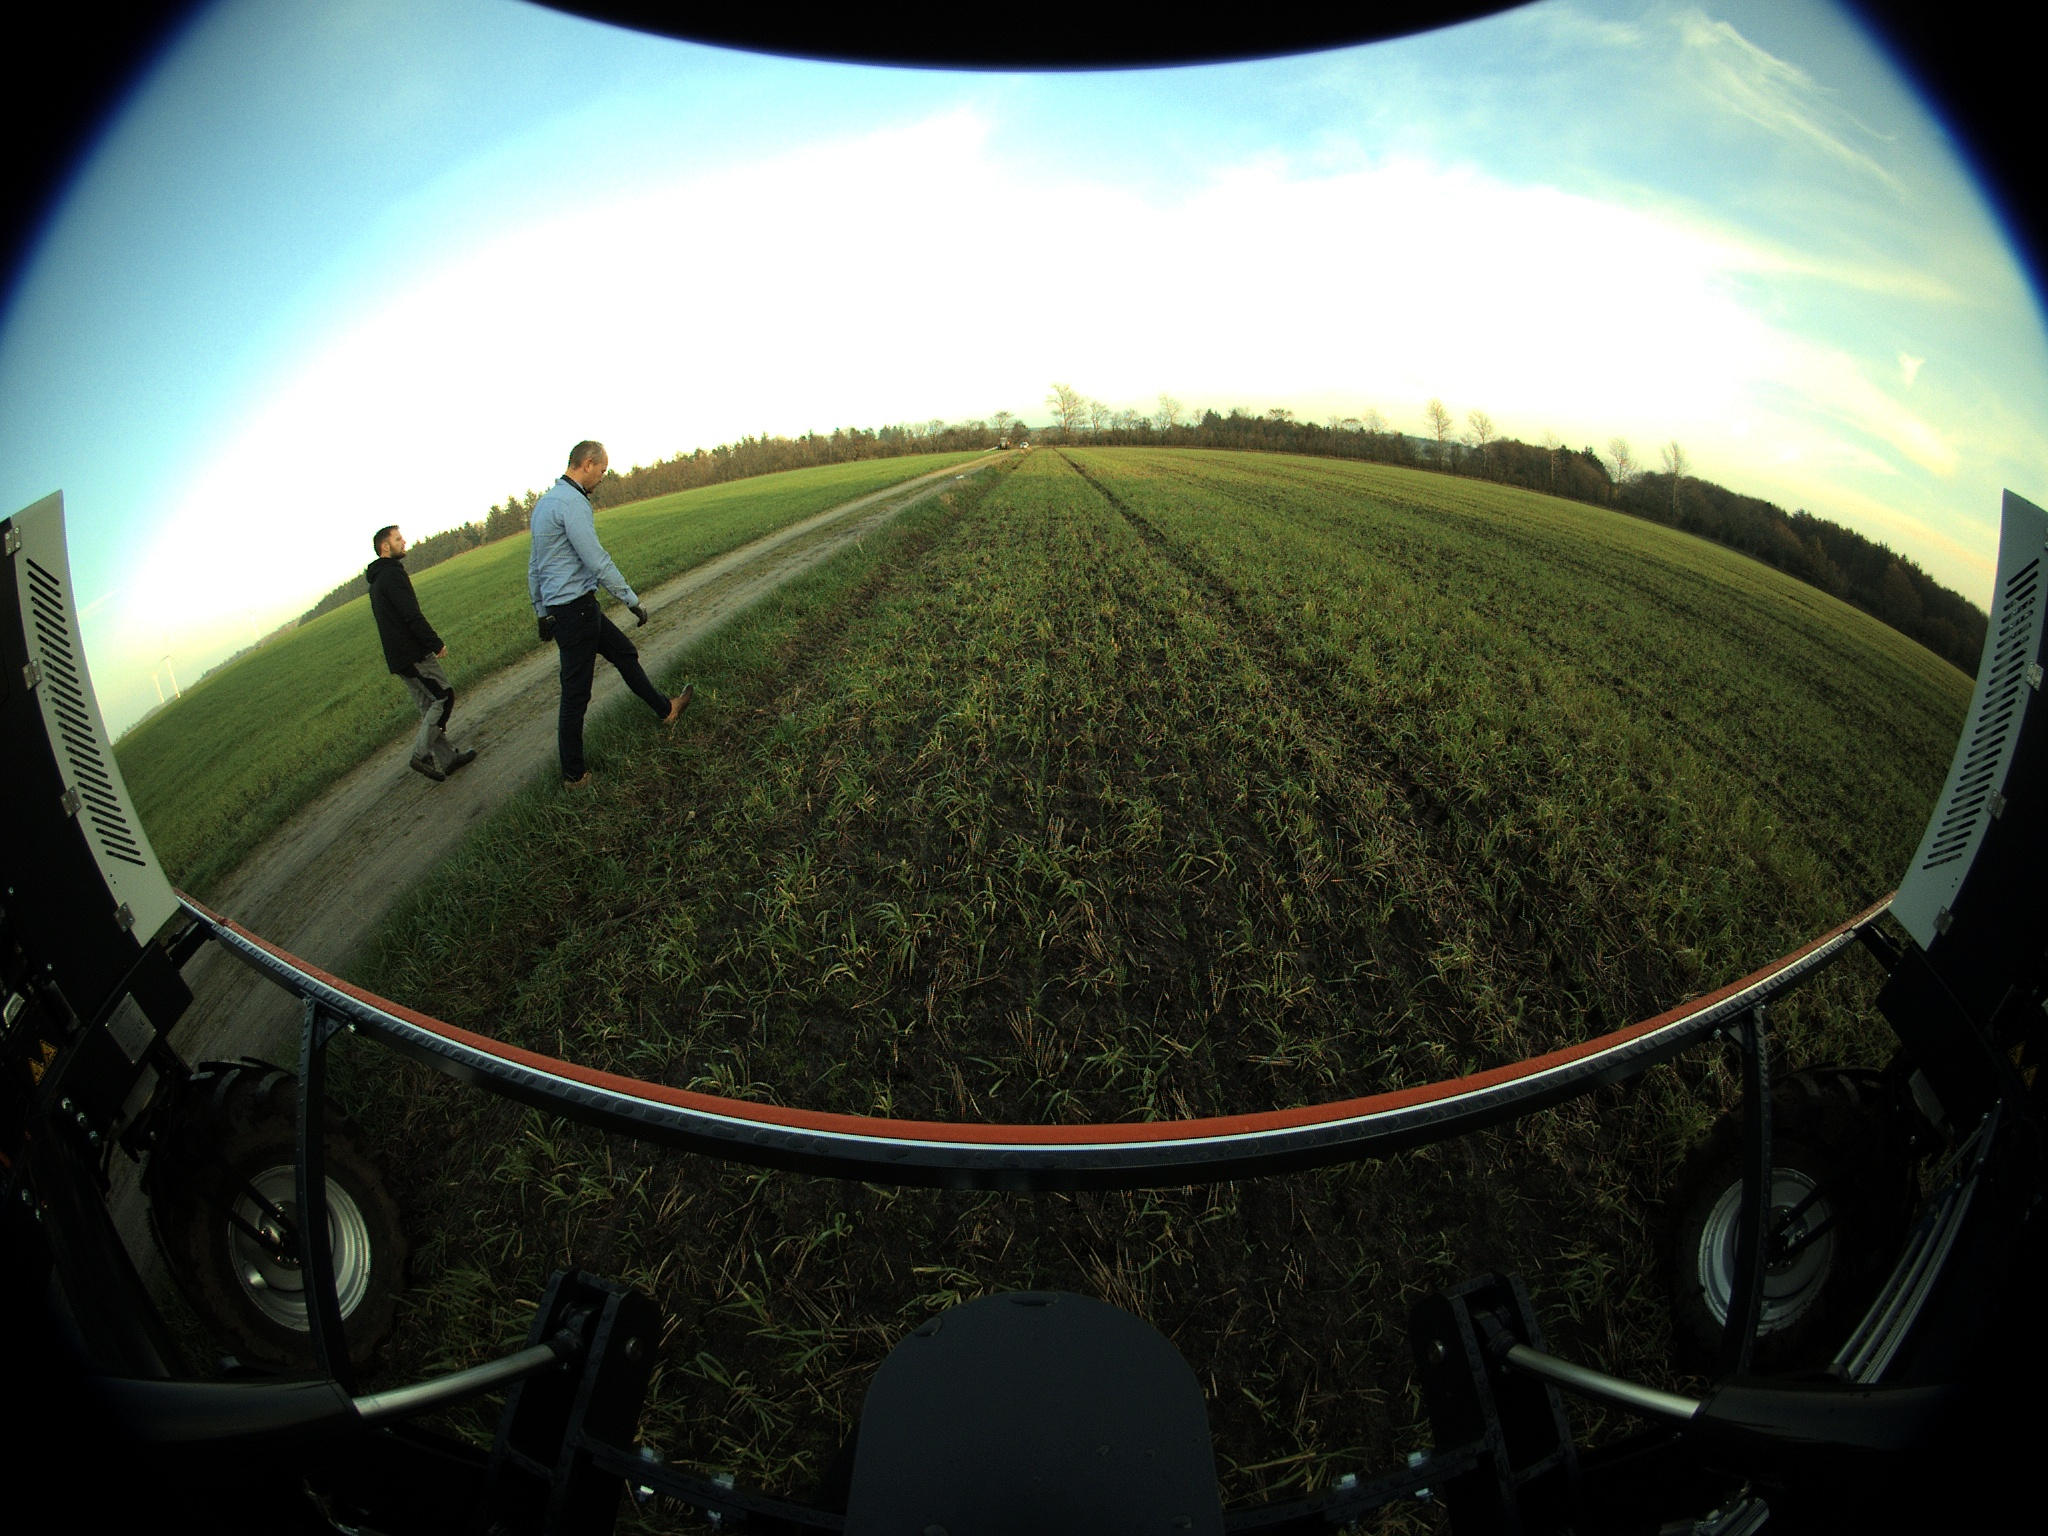person: (528, 440, 694, 789), (365, 525, 475, 781)
